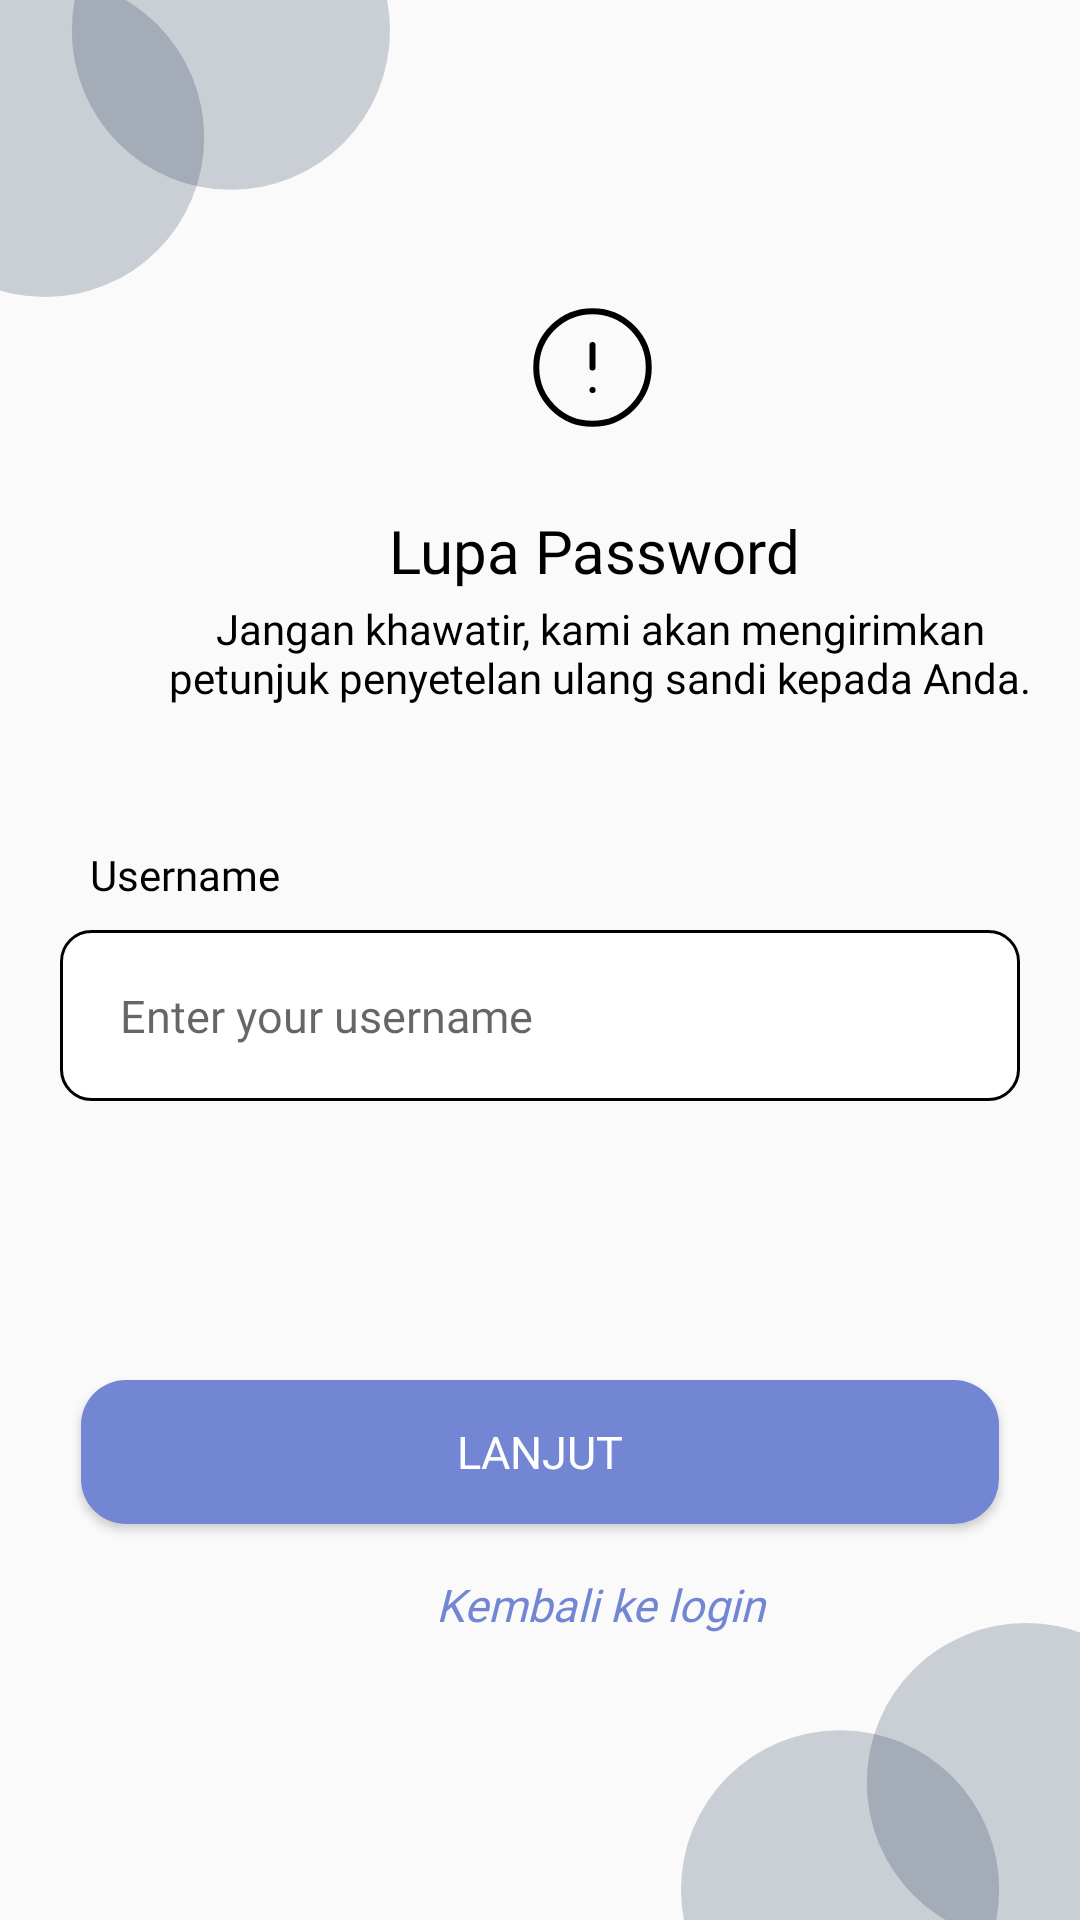

Named icons in this screenshot (1080px x 1920px) and their bounding boxes, BBox(x1, y1, x2, y2):
alert circle: BBox(533, 308, 652, 427)
